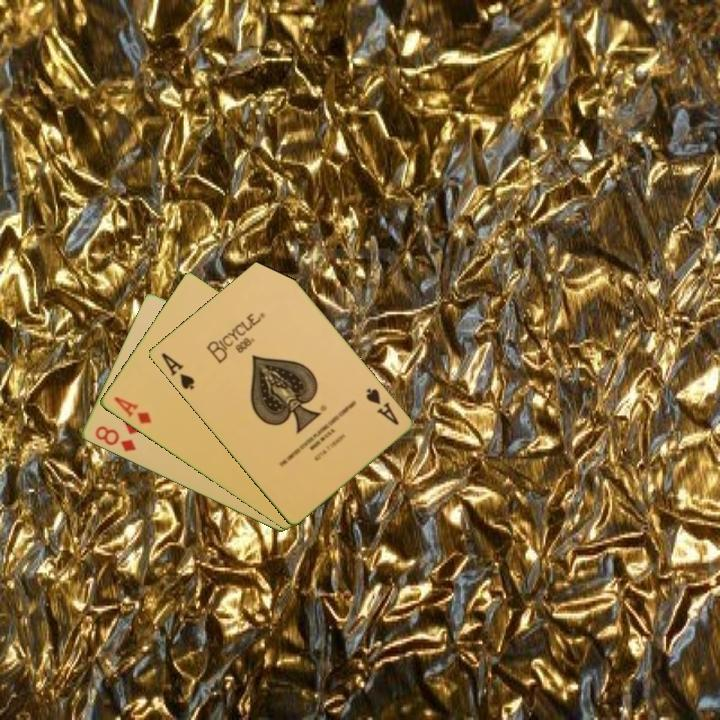8d: (91, 422, 139, 455)
Ad: (110, 393, 154, 427)
As: (157, 349, 197, 393), (362, 385, 402, 428)
